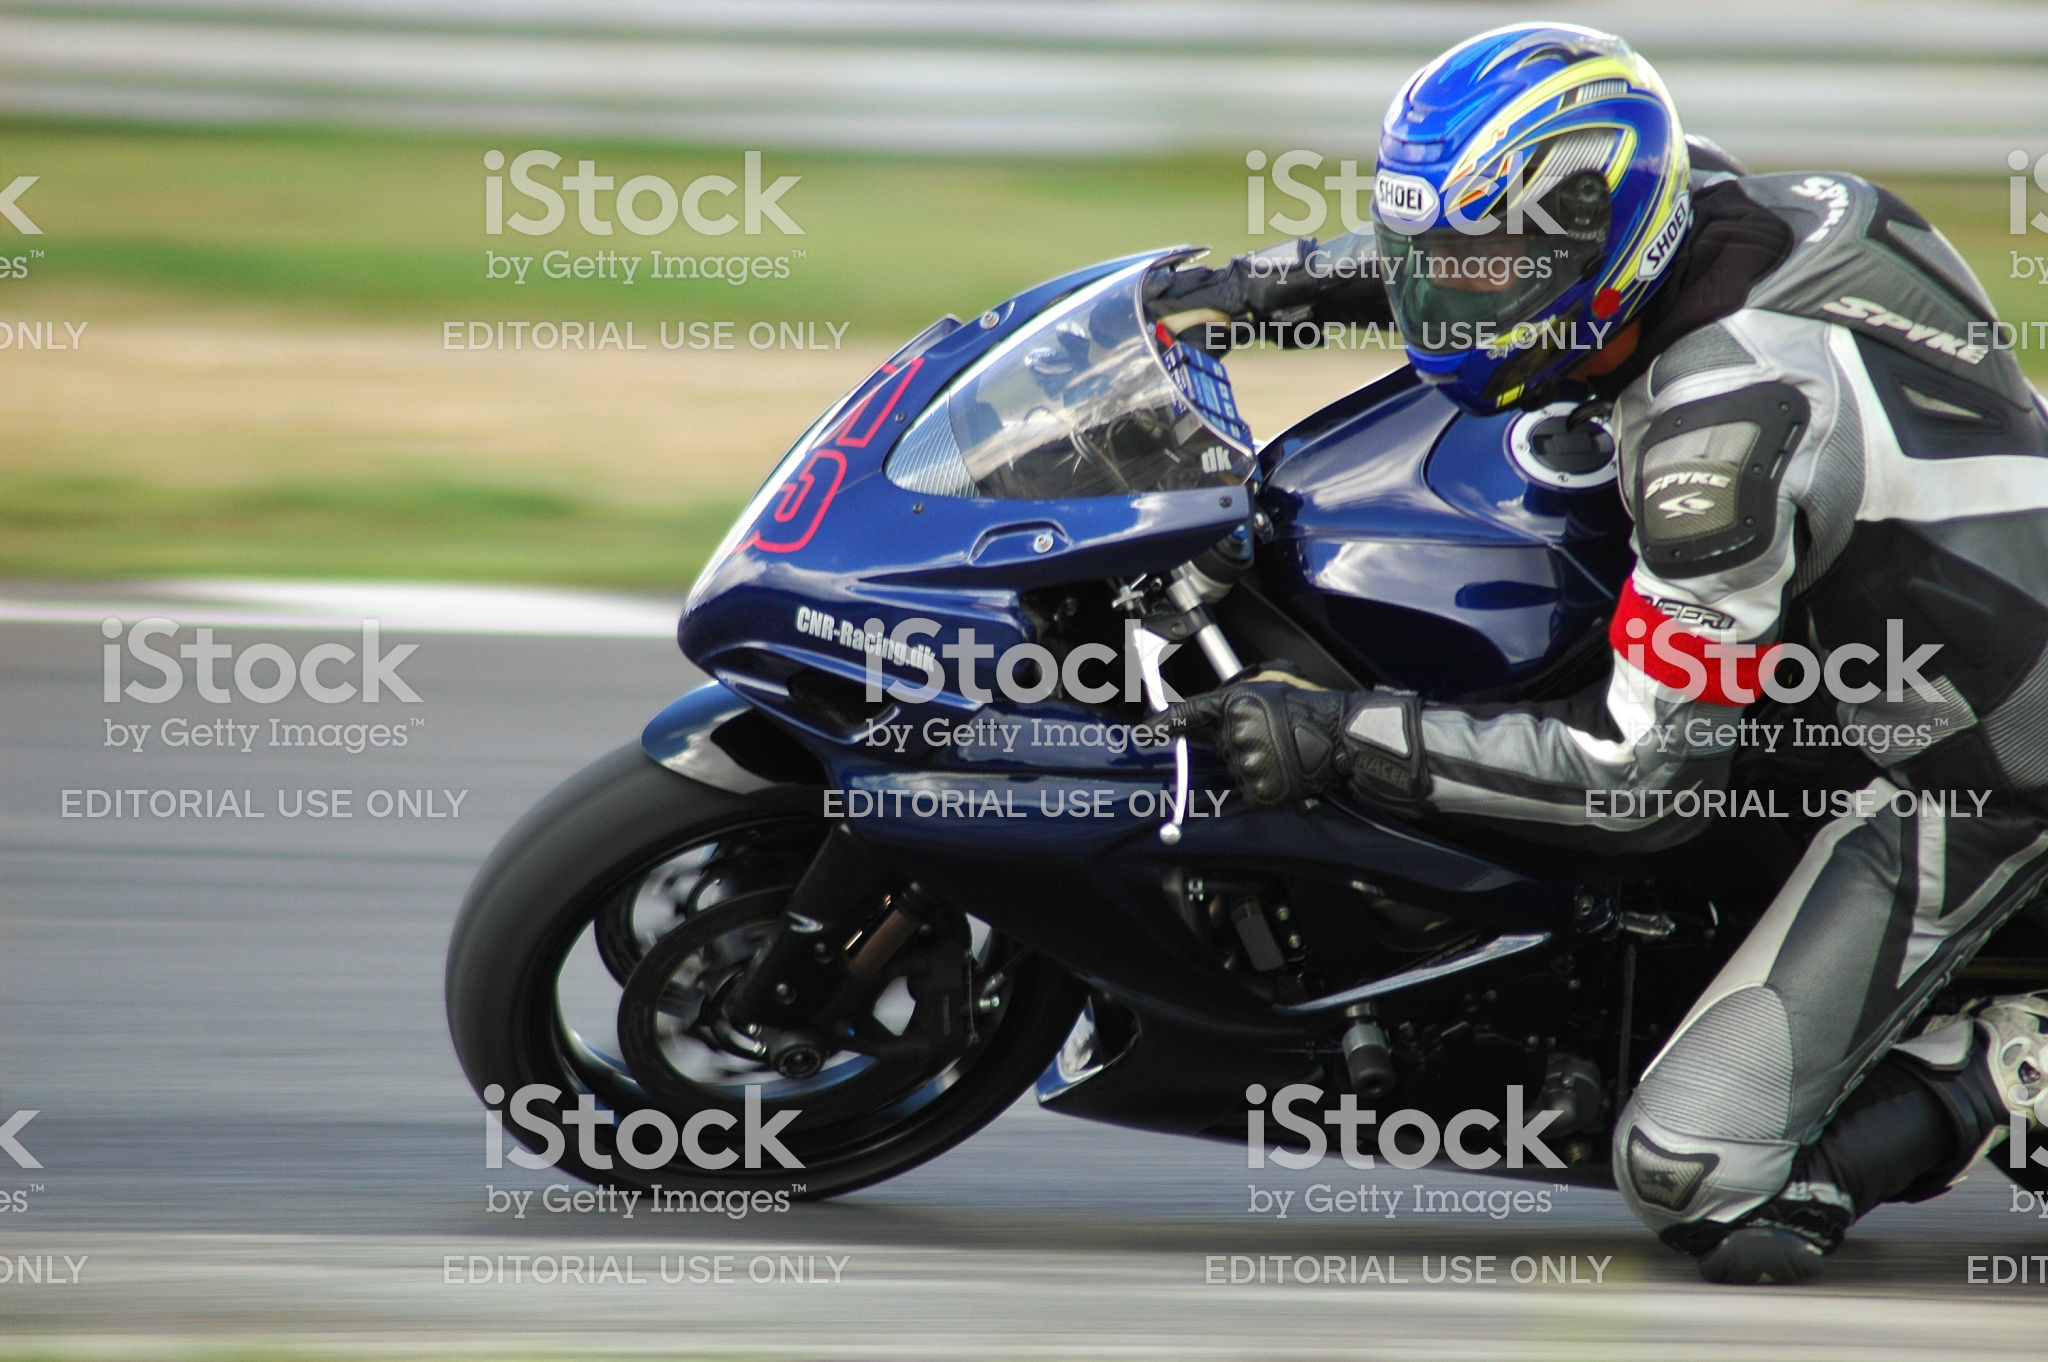helmet: (1354, 23, 1673, 371)
